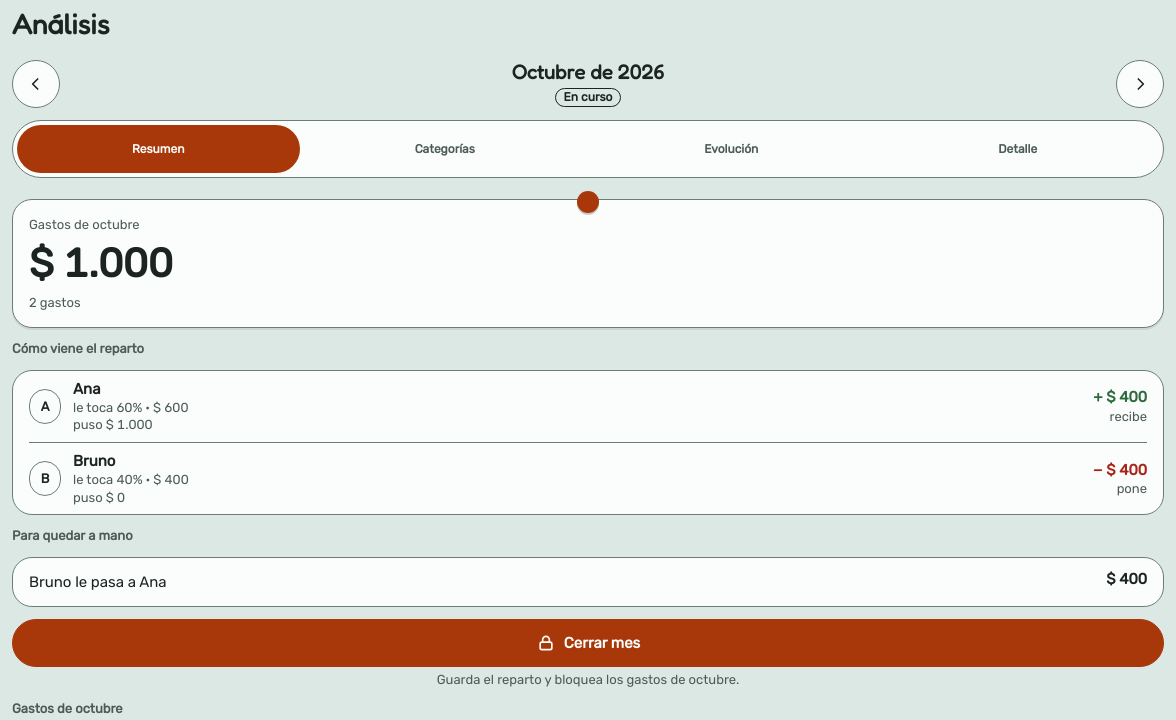
las flechas cambian de mes y lo recuerdan en la ruta
Expected: the tab "Resumen" is shown, x1=17 y1=125 x2=300 y2=173
Step 1. Click the button named "Mes anterior" → (36, 84), box x1=12 y1=60 x2=60 y2=108
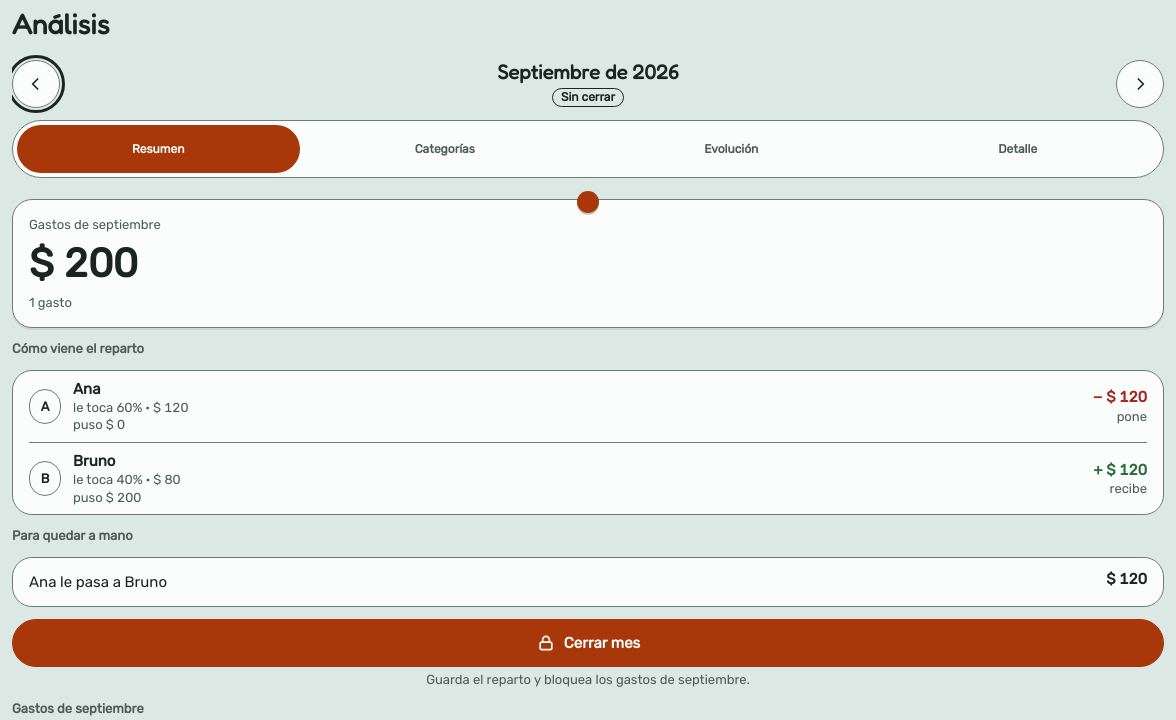
Now the text "Sin cerrar" is shown, box x1=561 y1=89 x2=615 y2=106
Step 2. Click the button named "Mes siguiente" → (1140, 84), box x1=1116 y1=60 x2=1164 y2=108
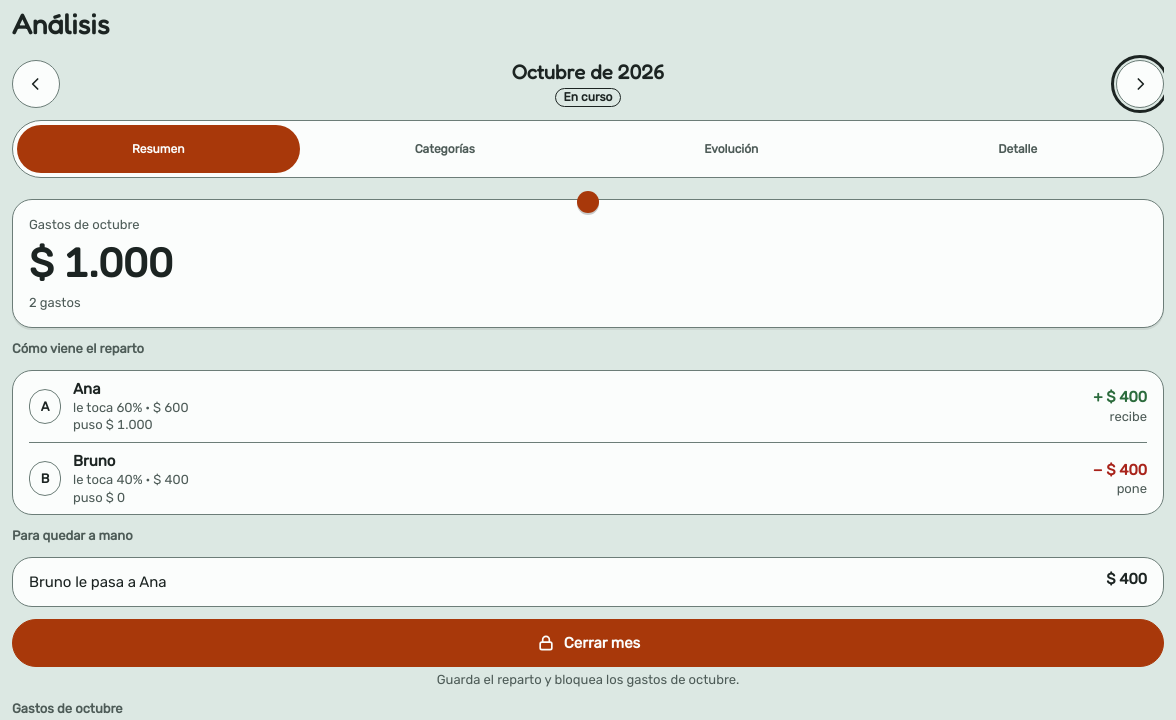
Now the heading "Octubre de 2026" is shown, box x1=512 y1=61 x2=664 y2=84
